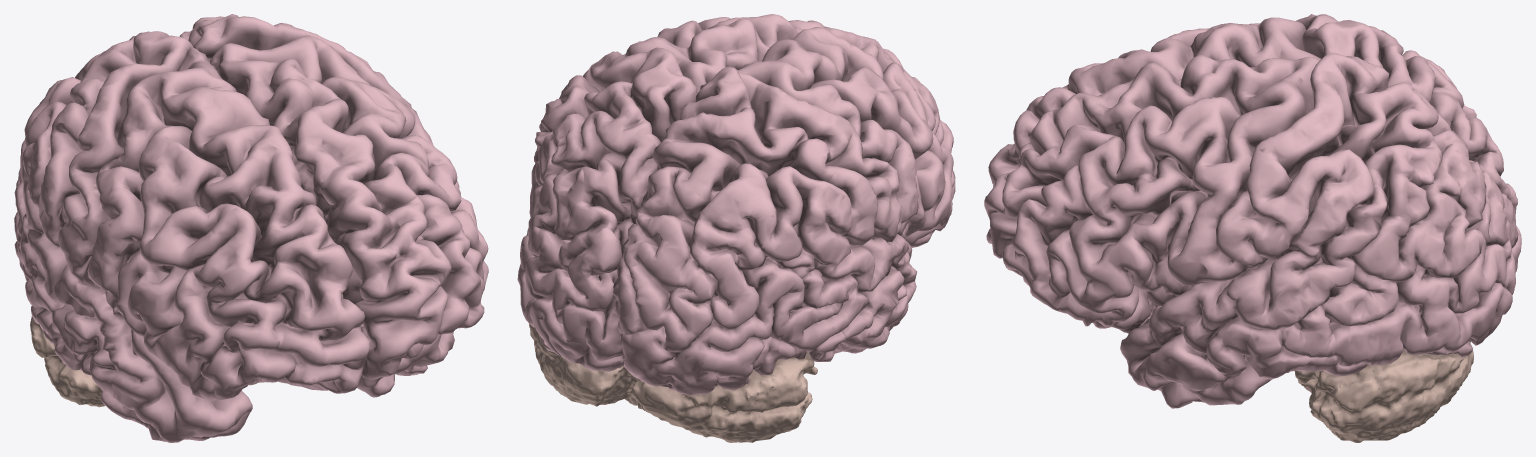
The model's file is brain.glb.
3 views of the same model, side by side, from view 1: azimuth 30°, elevation 25°; view 2: azimuth 150°, elevation 25°; view 3: azimuth 270°, elevation 25° (orthographic). The views are drawn at different scales.
Parts seen in each view (by area): view 1: unified-cortex, cerebellum; view 2: unified-cortex, cerebellum; view 3: unified-cortex, cerebellum.
Boxes of the visible parts, x1,y1,x2,y2 form: unified-cortex: [14, 14, 488, 442]; cerebellum: [30, 316, 256, 407]; unified-cortex: [517, 14, 955, 395]; cerebellum: [529, 323, 817, 442]; unified-cortex: [984, 14, 1521, 408]; cerebellum: [1294, 341, 1473, 442].
Bounding box in the file's own units: 2.62 × 2.58 × 3.46.
